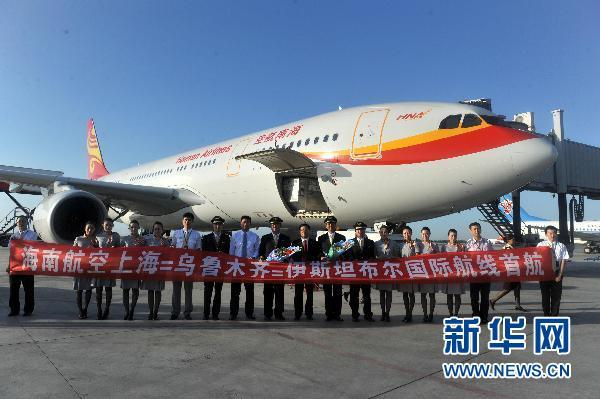airplane: (7, 97, 558, 237)
